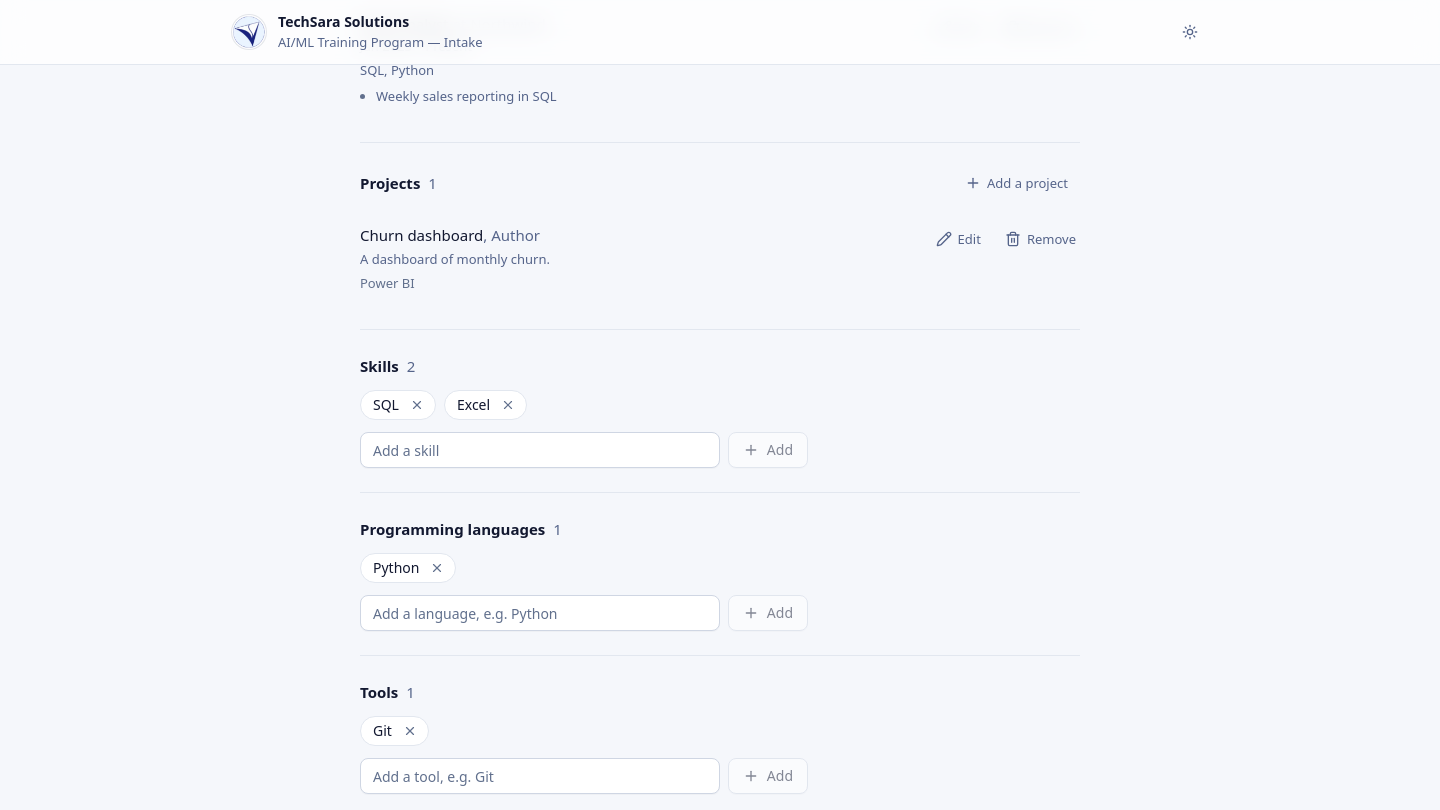
IntakeResumeReviewPage › offers the latest version when the résumé changed under the edits (unknown_ref)
This screenshot has width=1440, height=810.
(page scrolled)
Check: the list item with test id "resume-review-item-r1" is shown, box [360,0,1080,118]
Step 1. Click the button with test id "resume-review-remove-skills-0" → (417,405), box [403,391,431,419]
(page scrolled)
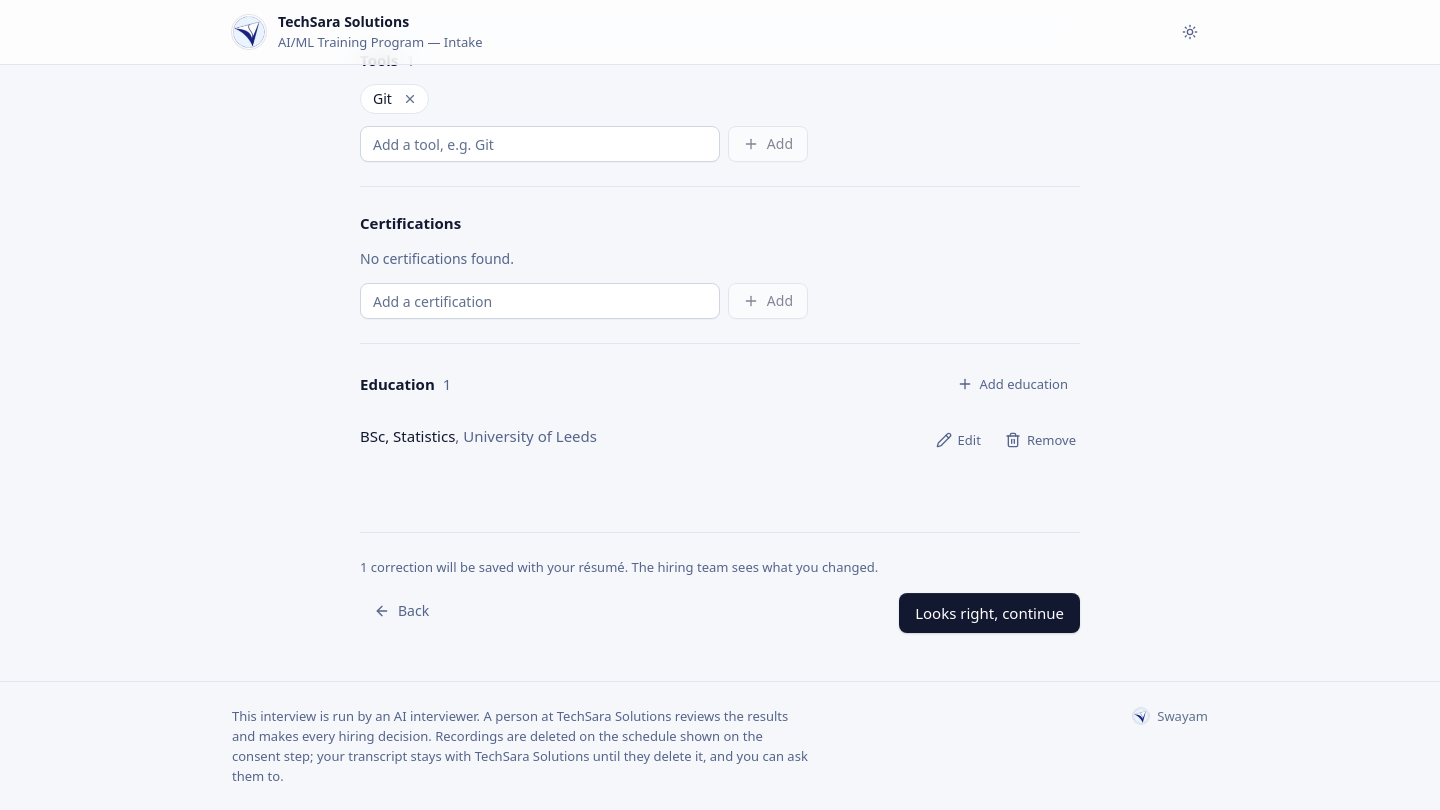
Step 2. Click the button with test id "resume-review-confirm" → (990,613), box [899,593,1080,633]
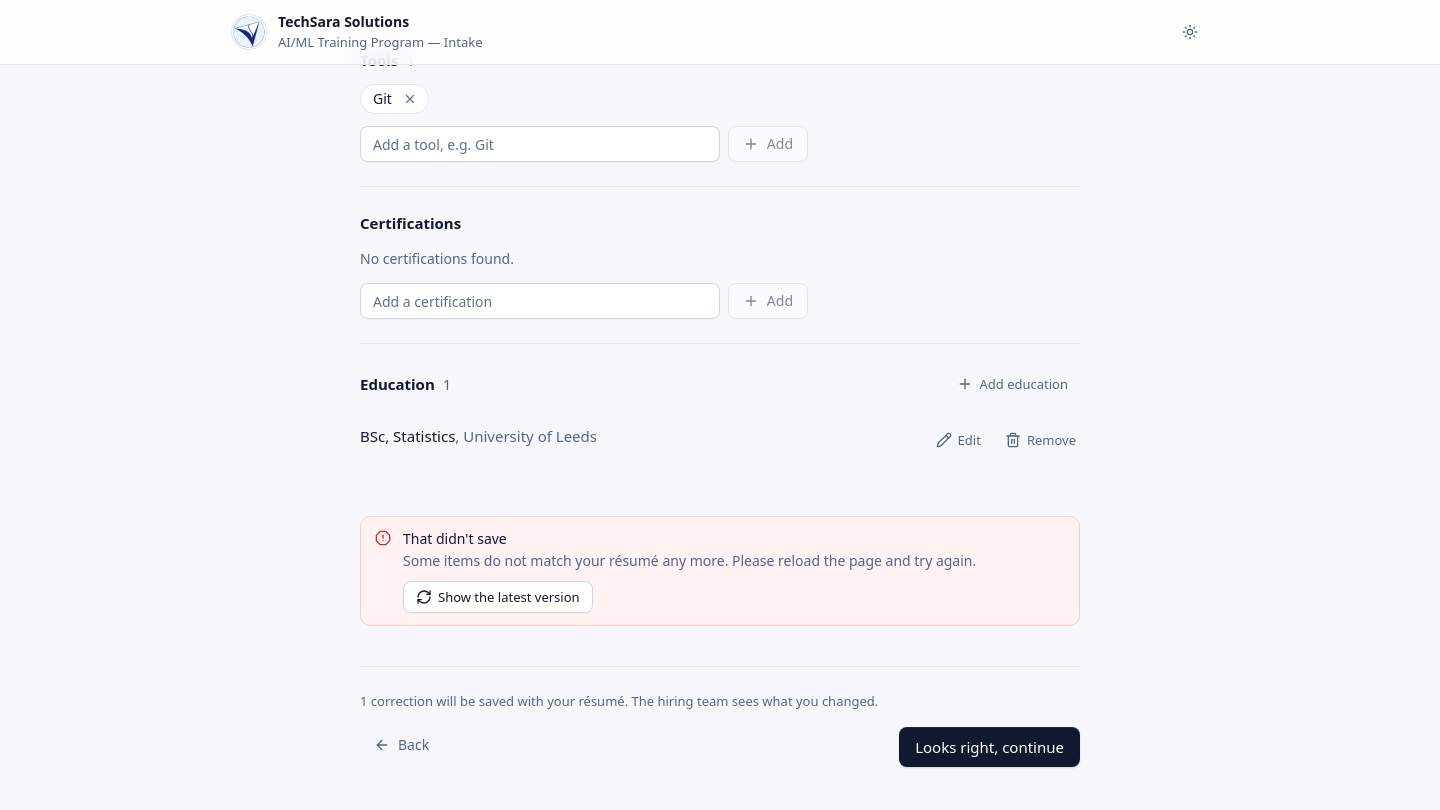
Check: the message with test id "resume-review-error" shows "Some items do not match your résumé any more.", box [403,551,976,570]
Step 3. Click the button "Show the latest version" → (498,597), box [403,581,593,613]
(page scrolled)
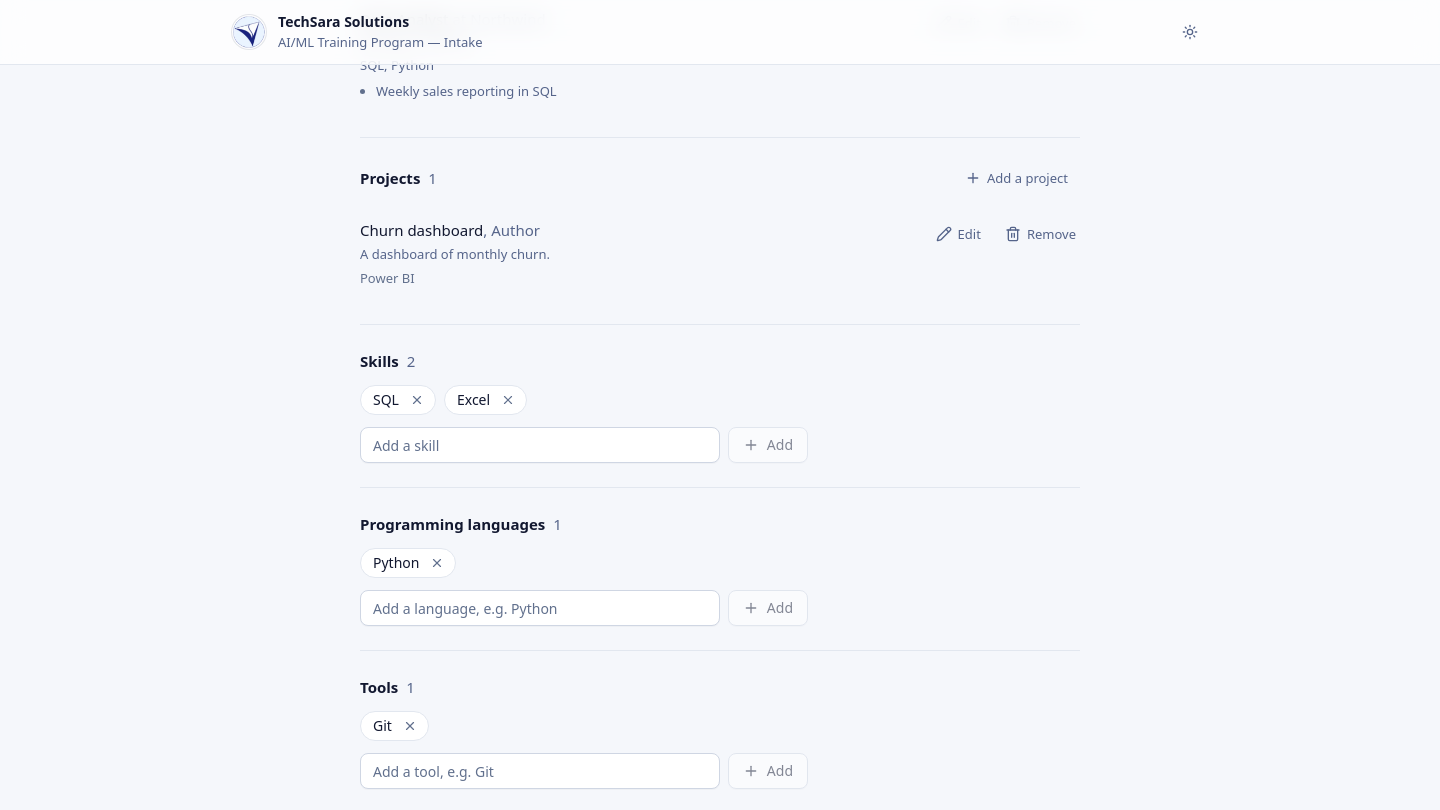
Check: the message with test id "resume-review-error" is gone
Check: the element with test id "resume-review-section-skills" shows "SQL", box [361,386,403,414]
